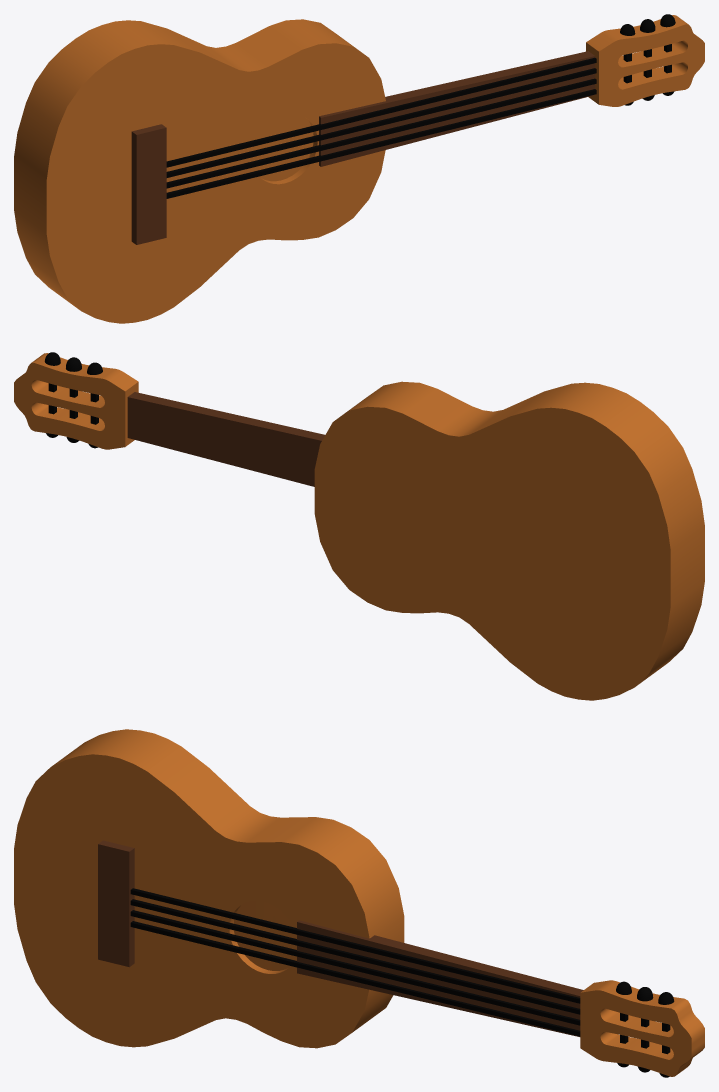
Rendered from guitar.fbx.
3 renders of one model, top to bottom at view 1: azimuth 30°, elevation 25°; view 2: azimuth 150°, elevation 25°; view 3: azimuth 330°, elevation 25°, orthographic. The views are drawn at different scales.
Visible parts, largest first — view 1: Plane.038; view 2: Plane.038; view 3: Plane.038.
Part boxes in pixels (box(x1,y1,x2,y2)): Plane.038: box(14, 14, 704, 323); Plane.038: box(14, 352, 704, 700); Plane.038: box(14, 729, 704, 1077).
Size of the model in its own units: 6.18 by 2.48 by 0.6305.
